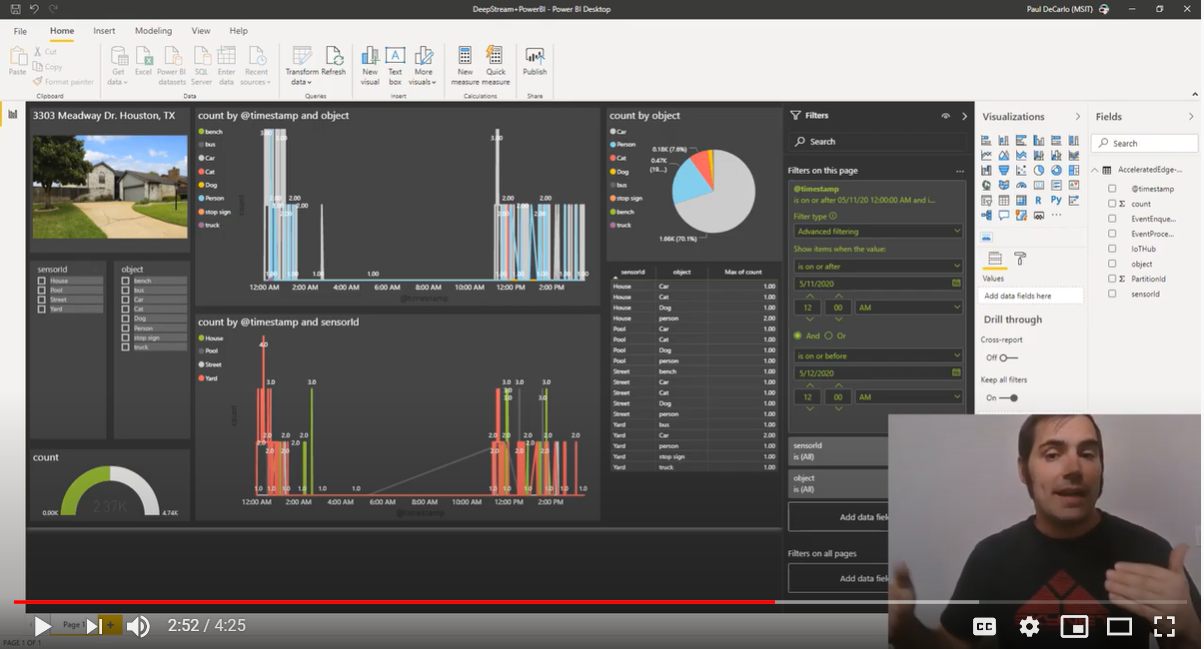

The dashboard page shown, as its layout file describes it:
{"tool":"powerbi","page":{"name":"Page 1","canvas":[1280,720],"ordinal":0},"visuals":[{"type":"tableEx","fields":{"Values":["AcceleratedEdge-ObjectDetections.sensorId","AcceleratedEdge-ObjectDetections.object","Max(AcceleratedEdge-ObjectDetections.count)"]},"box":[983.2,273.7,296.6,435.7],"z":0},{"type":"lineChart","fields":{"Series":["AcceleratedEdge-ObjectDetections.object"],"Category":["AcceleratedEdge-ObjectDetections.@timestamp"],"Y":["Sum(AcceleratedEdge-ObjectDetections.count)"]},"box":[286.9,10.6,684.8,335.4],"z":1000},{"type":"image","title":"3303 Meadway Dr. Houston, TX","box":[7,10.6,271.1,244.7],"z":2000},{"type":"gauge","fields":{"Y":["Sum(AcceleratedEdge-ObjectDetections.count)"]},"box":[7,588,271.1,121.5],"z":3000},{"type":"pieChart","fields":{"Category":["AcceleratedEdge-ObjectDetections.object"],"Y":["Sum(AcceleratedEdge-ObjectDetections.count)"]},"box":[983.3,10.2,296.7,259.5],"z":4000},{"type":"slicer","fields":{"Values":["AcceleratedEdge-ObjectDetections.sensorId"]},"box":[7,270.2,129.4,301],"z":5000},{"type":"slicer","fields":{"Values":["AcceleratedEdge-ObjectDetections.object"]},"box":[148.8,270.2,129.4,301],"z":6000},{"type":"lineChart","fields":{"Y":["Sum(AcceleratedEdge-ObjectDetections.count)"],"Category":["AcceleratedEdge-ObjectDetections.@timestamp"],"Series":["AcceleratedEdge-ObjectDetections.sensorId"]},"box":[286.9,360,684.8,349.4],"z":7000}]}

Visuals, with their boxes on the page's 1280x720 design canvas (x1, y1, x2, y2). These are canvas units, not pixel positions in the 1204x649 screenshot, which may show the page scaled, cropped or inside an application window:
tableEx - AcceleratedEdge-ObjectDetections.sensorId x AcceleratedEdge-ObjectDetections.object: x1=983, y1=274, x2=1280, y2=709
lineChart - AcceleratedEdge-ObjectDetections.object x AcceleratedEdge-ObjectDetections.@timestamp: x1=287, y1=11, x2=972, y2=346
"3303 Meadway Dr. Houston, TX" image: x1=7, y1=11, x2=278, y2=255
gauge - Sum(AcceleratedEdge-ObjectDetections.count): x1=7, y1=588, x2=278, y2=710
pieChart - AcceleratedEdge-ObjectDetections.object x Sum(AcceleratedEdge-ObjectDetections.count): x1=983, y1=10, x2=1280, y2=270
slicer - AcceleratedEdge-ObjectDetections.sensorId: x1=7, y1=270, x2=136, y2=571
slicer - AcceleratedEdge-ObjectDetections.object: x1=149, y1=270, x2=278, y2=571
lineChart - Sum(AcceleratedEdge-ObjectDetections.count) x AcceleratedEdge-ObjectDetections.@timestamp: x1=287, y1=360, x2=972, y2=709
